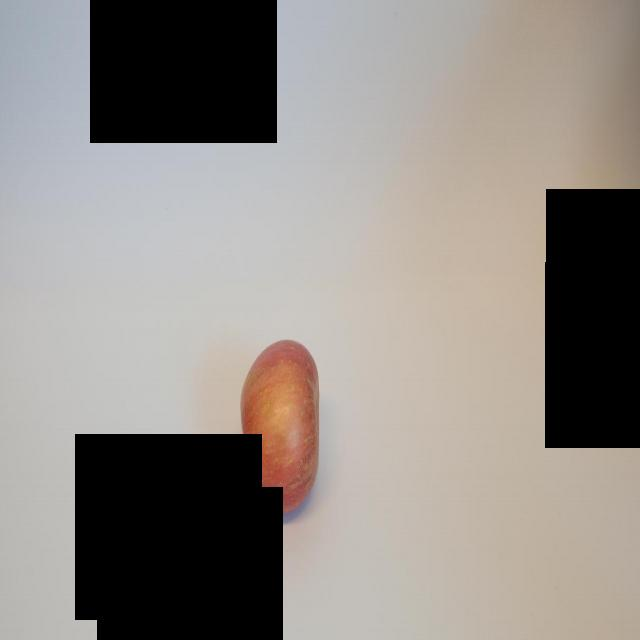apple: (242, 334, 322, 523)
